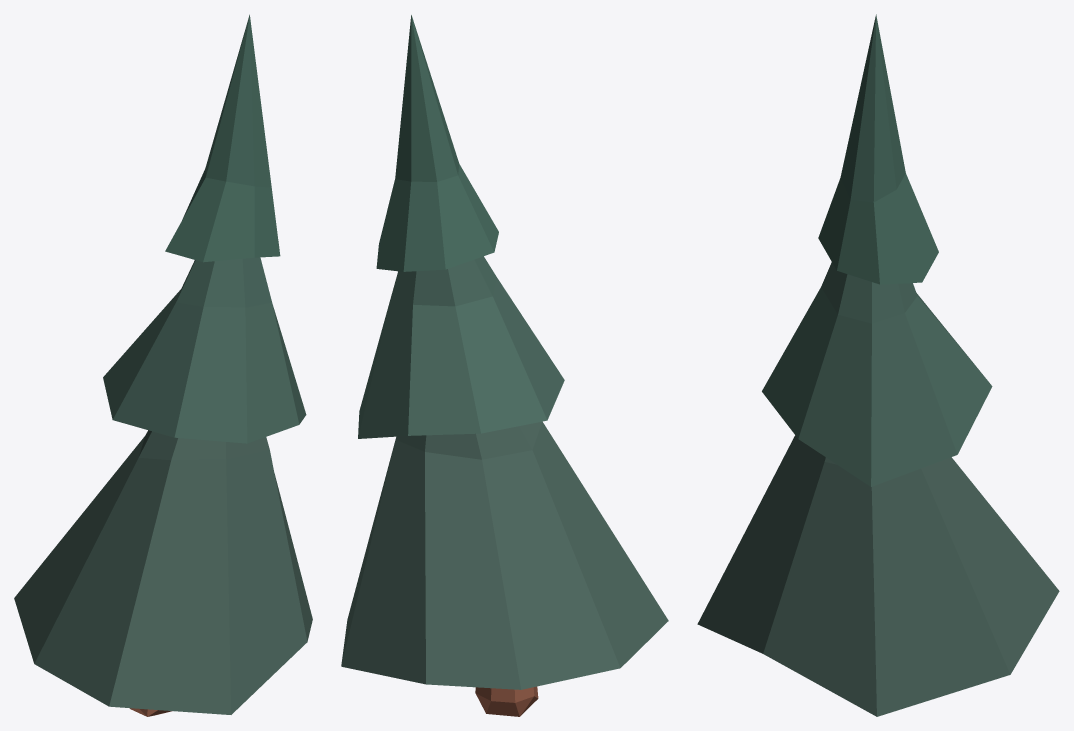
Rendered from Spruce(1).fbx.
3 renders of one model, left to right at view 1: azimuth 30°, elevation 25°; view 2: azimuth 150°, elevation 25°; view 3: azimuth 270°, elevation 25°, orthographic. The views are drawn at different scales.
Parts seen in each view (by area): view 1: Cone.019; view 2: Cone.019; view 3: Cone.019.
Part boxes in pixels (x1=…): Cone.019: x1=14, y1=14, x2=312, y2=716; Cone.019: x1=341, y1=15, x2=668, y2=716; Cone.019: x1=697, y1=14, x2=1059, y2=716.
Bounding box in the file's own units: 510 × 1197 × 538.
1 material, 1 textured.
